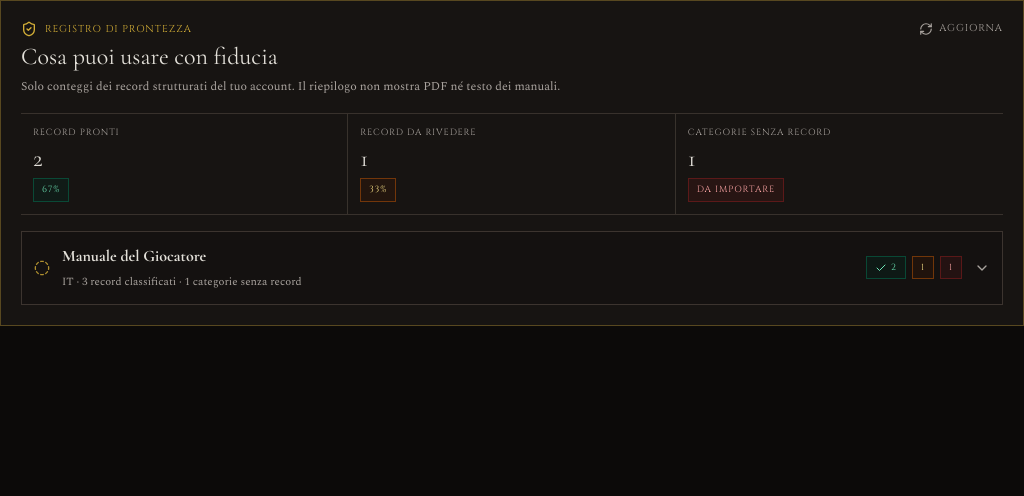
Test: LibraryCoverageReadiness › expands a 'RICHIEDE REVISIONE' category and shows fetched record names
# Open the manual row
Click the button that starts with "Manuale del Giocatore" at coordinates (134, 256), box 22,232 -> 1002,304
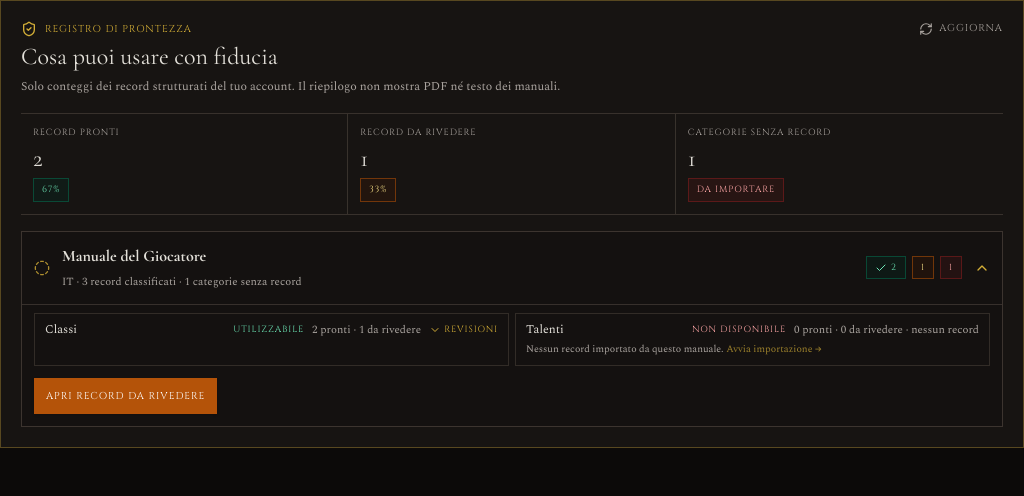
Check: the button with test id "expand-category-manuale-giocatore.pdf-class" is shown
Click the button with test id "expand-category-manuale-giocatore.pdf-class" at coordinates (464, 330), box 429,323 -> 498,336
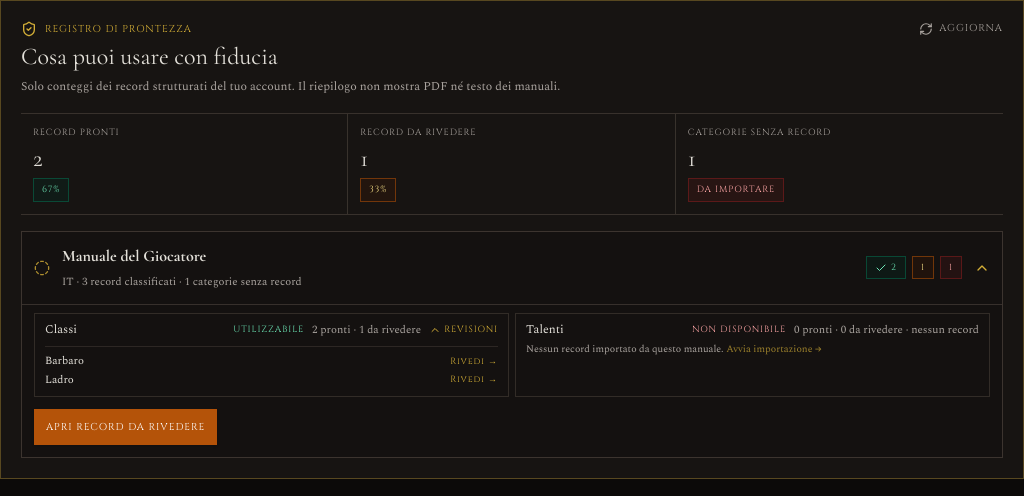
Check: the element with test id "category-records-list-manuale-giocatore.pdf-class" is shown, box 45,346 -> 498,388
Check: the element with test id "category-records-list-manuale-giocatore.pdf-class" shows "Barbaro", box 45,352 -> 84,369
Check: the element with test id "category-records-list-manuale-giocatore.pdf-class" shows "Ladro", box 45,370 -> 74,388
